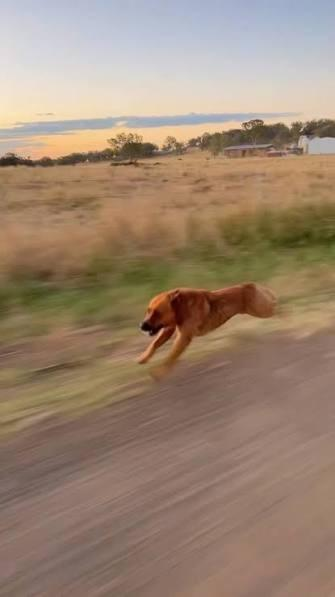adult_dog: (134, 280, 279, 374)
